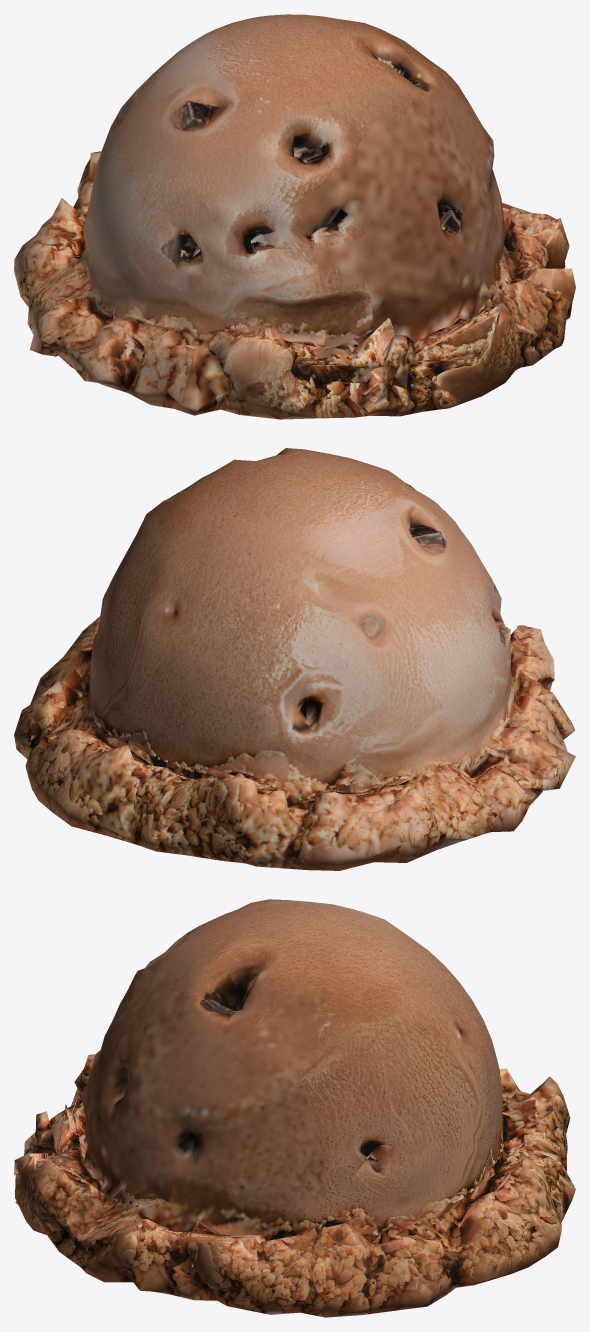
The model's file is c_icecream.fbx.
3 renders of one model, top to bottom at view 1: azimuth 30°, elevation 25°; view 2: azimuth 150°, elevation 25°; view 3: azimuth 270°, elevation 25°, orthographic.
Parts seen in each view (by area): view 1: texture_mapping; view 2: texture_mapping; view 3: texture_mapping.
Part boxes in pixels (x1,y1,x2,y2): texture_mapping: (14,14,575,419); texture_mapping: (14,448,575,870); texture_mapping: (14,899,575,1317).
Size of the model in its own units: 0.9834 by 0.9813 by 0.5473.
Materials: 1 (1 with a texture image).
